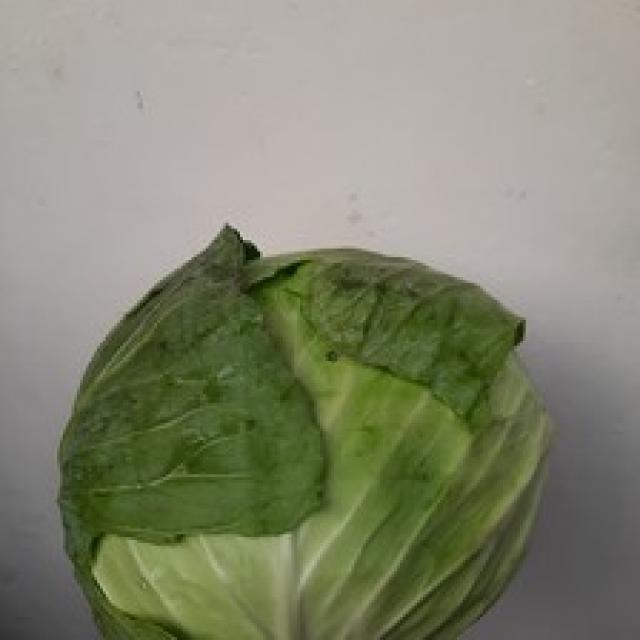Cabbage: (54, 220, 552, 637)
